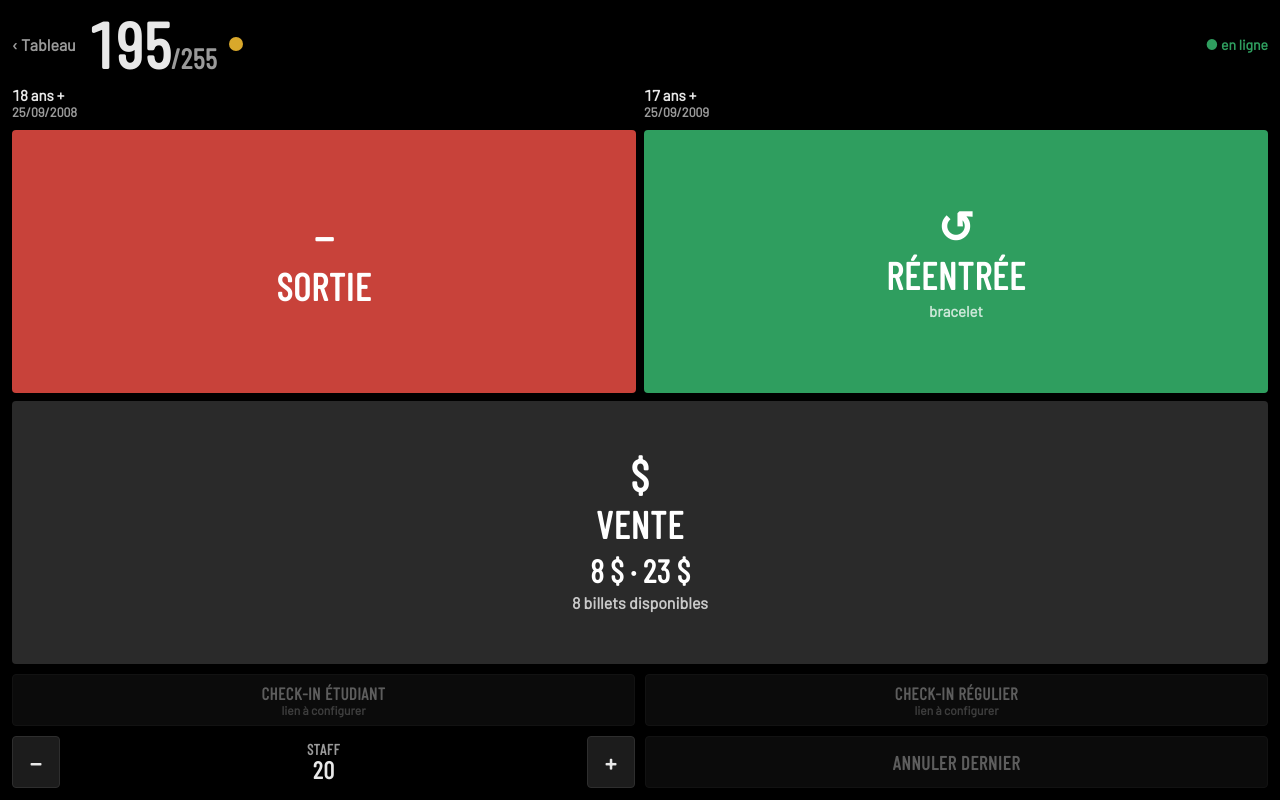
it: Écran Porte (scénario 23:00, 195 personnes, prix automatiques 8 $ / 23 $) › vente mixte (2 étudiants + 1 autre) puis annulation du groupe entier
This screenshot has width=1280, height=800.
What coordinates should you click on to do the following:
click the button "$ VENTE 8 $ · 23 $ 8 billets disponibles"
I would click on:
 (640, 532)
Its box is [12,401,1268,664].
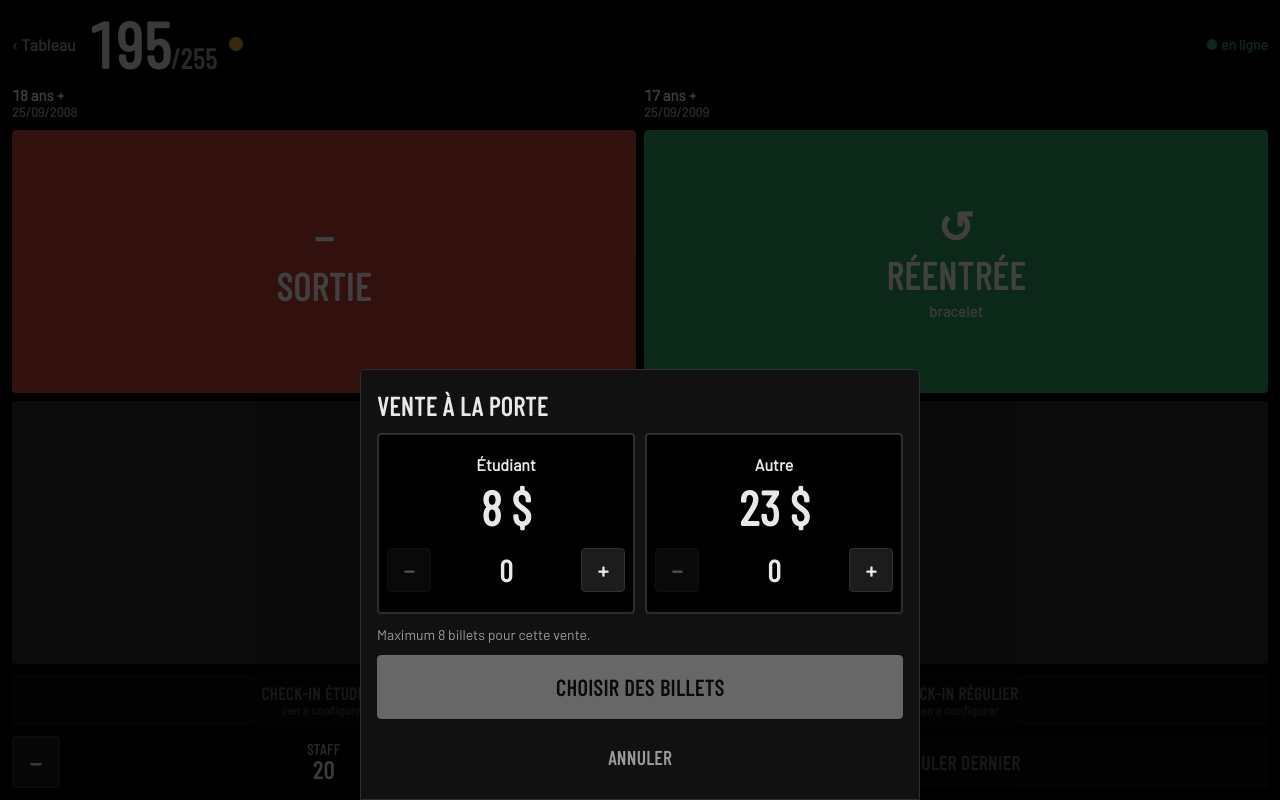
What coordinates should you click on to do the following:
click the button named "Ajouter un billet Étudiant"
I would click on:
 (603, 570)
Its box is [581,548,625,592].
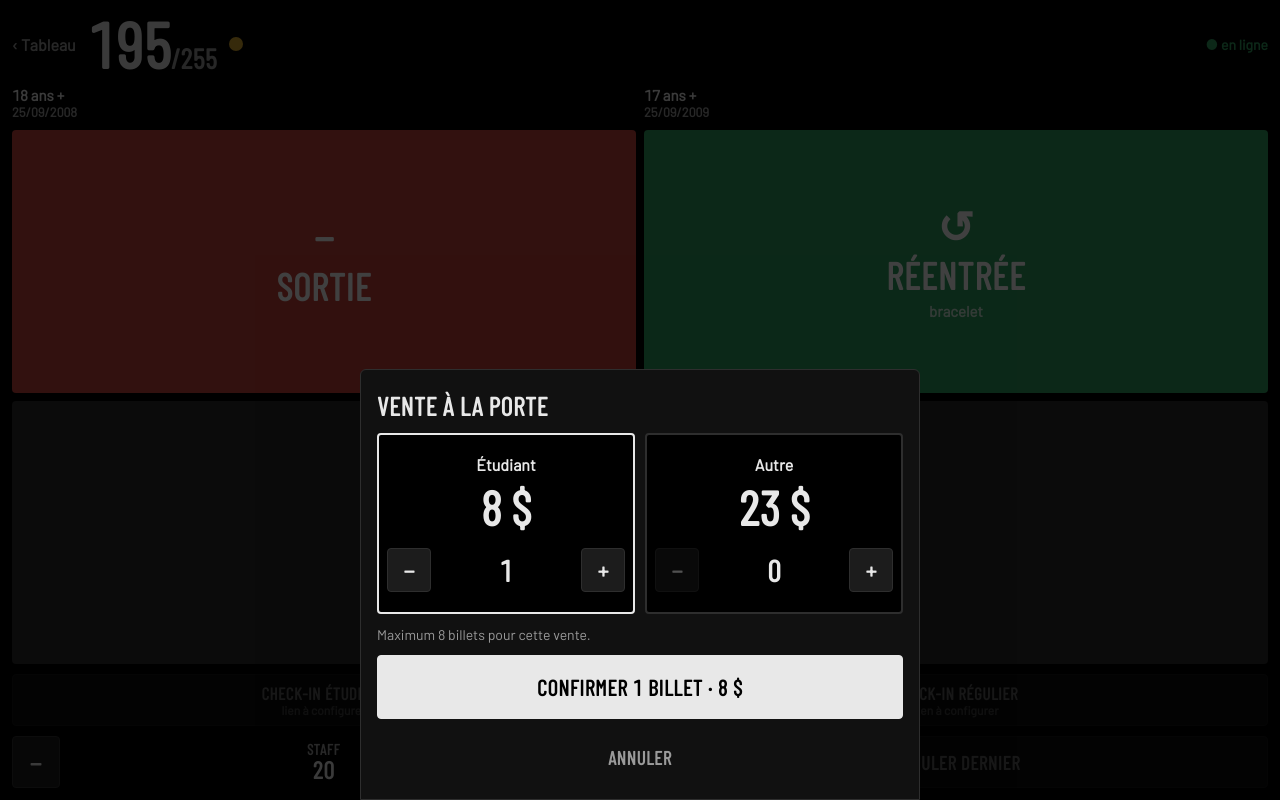
What coordinates should you click on to do the following:
click the button named "Ajouter un billet Étudiant"
I would click on:
 (603, 570)
Its box is [581,548,625,592].
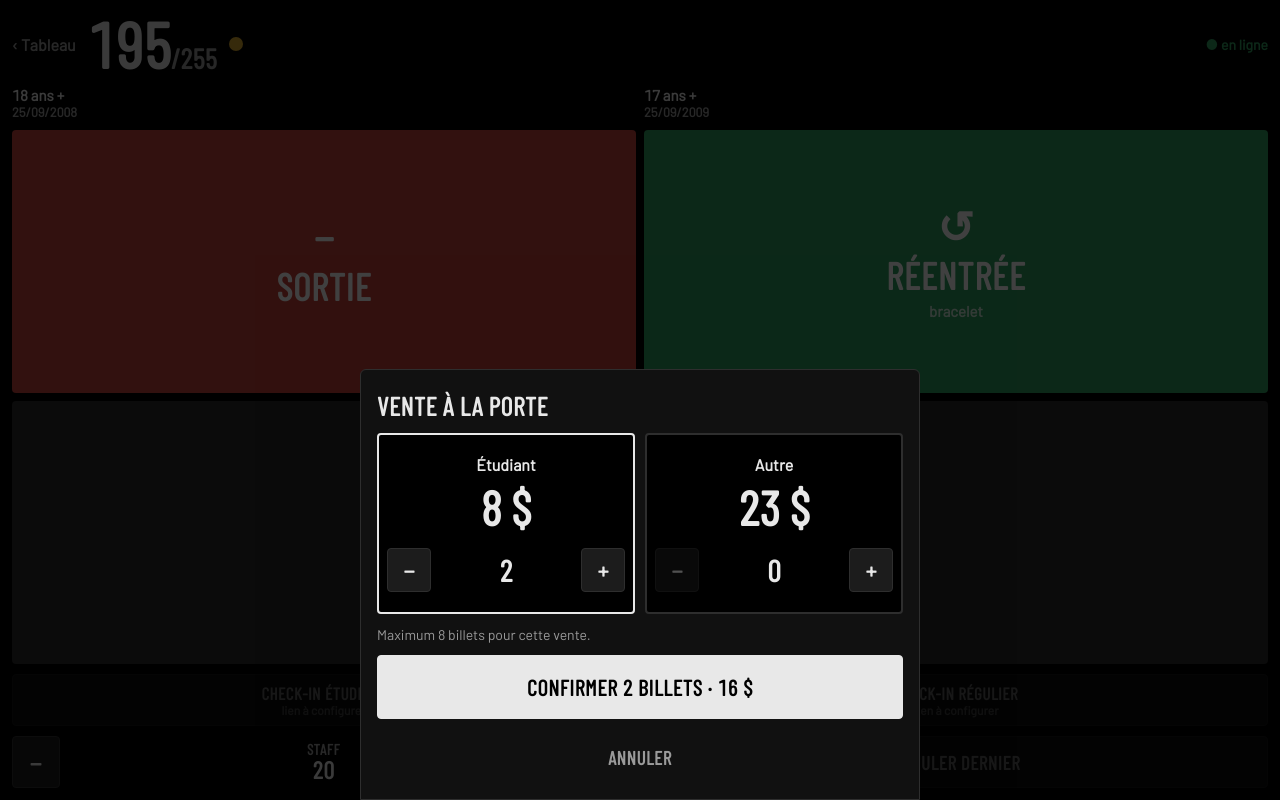
What coordinates should you click on to do the following:
click the button named "Ajouter un billet Autre"
I would click on:
 (871, 570)
Its box is [849,548,893,592].
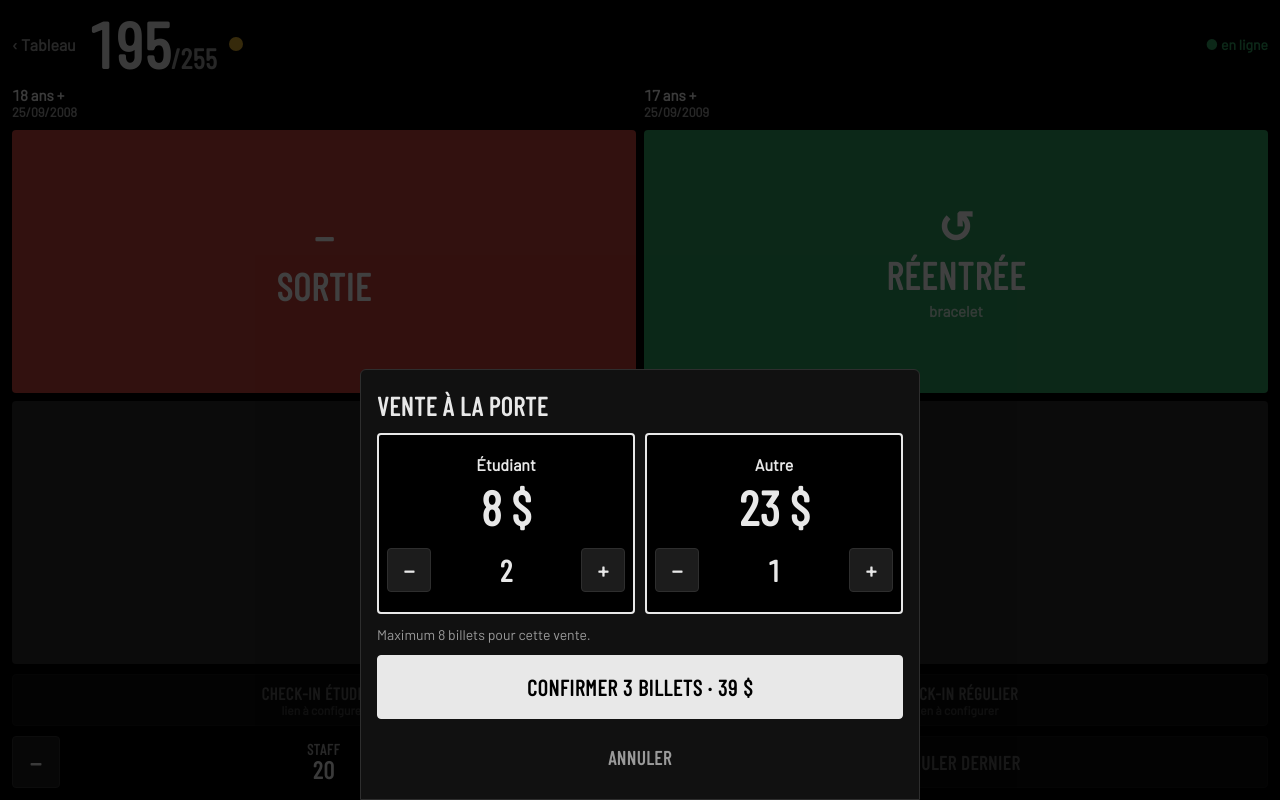
What coordinates should you click on to do the following:
click the button "Confirmer 3 billets · 39 $"
I would click on:
 (640, 687)
Its box is [377,655,903,719].
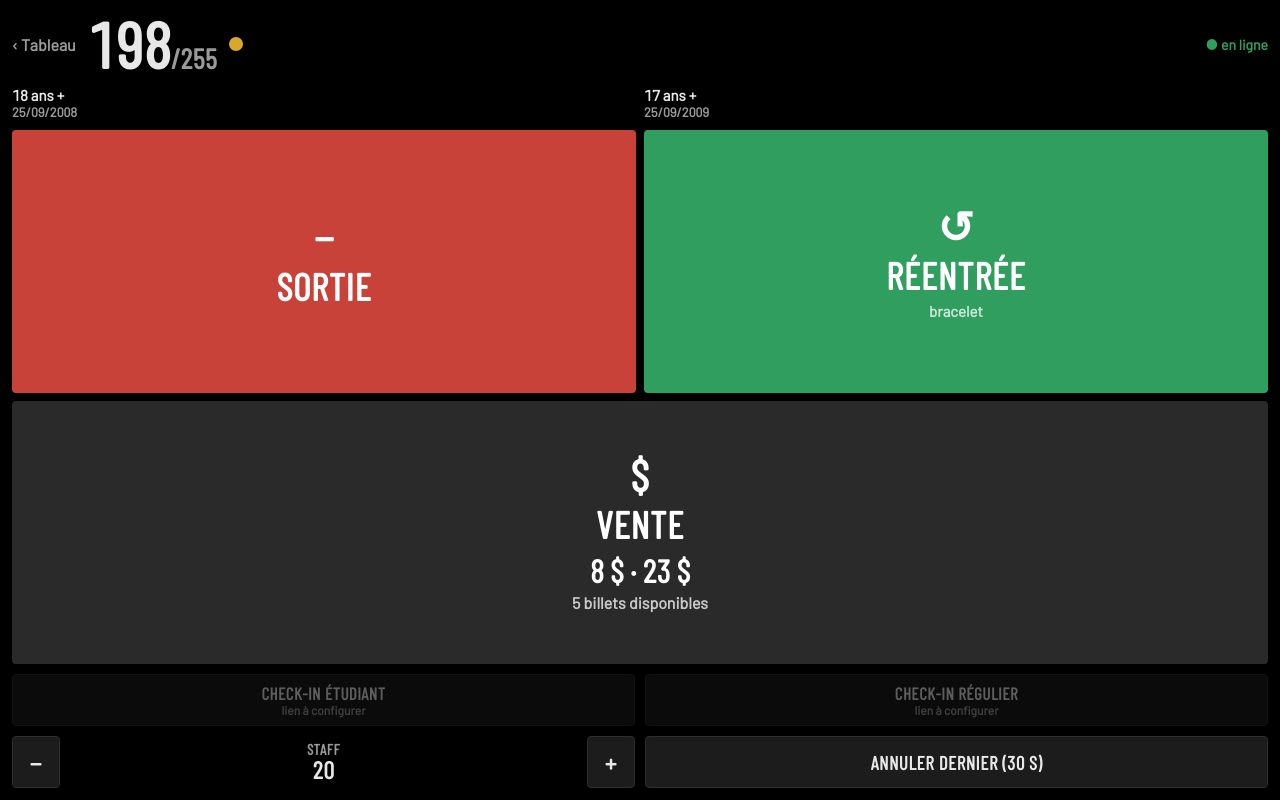
Expected: the text "198" is shown, [88,12,171,76]
What coordinates should you click on to do the following:
click the button "Annuler dernier (30 s)"
I would click on:
 (956, 762)
Its box is [645,736,1268,788].
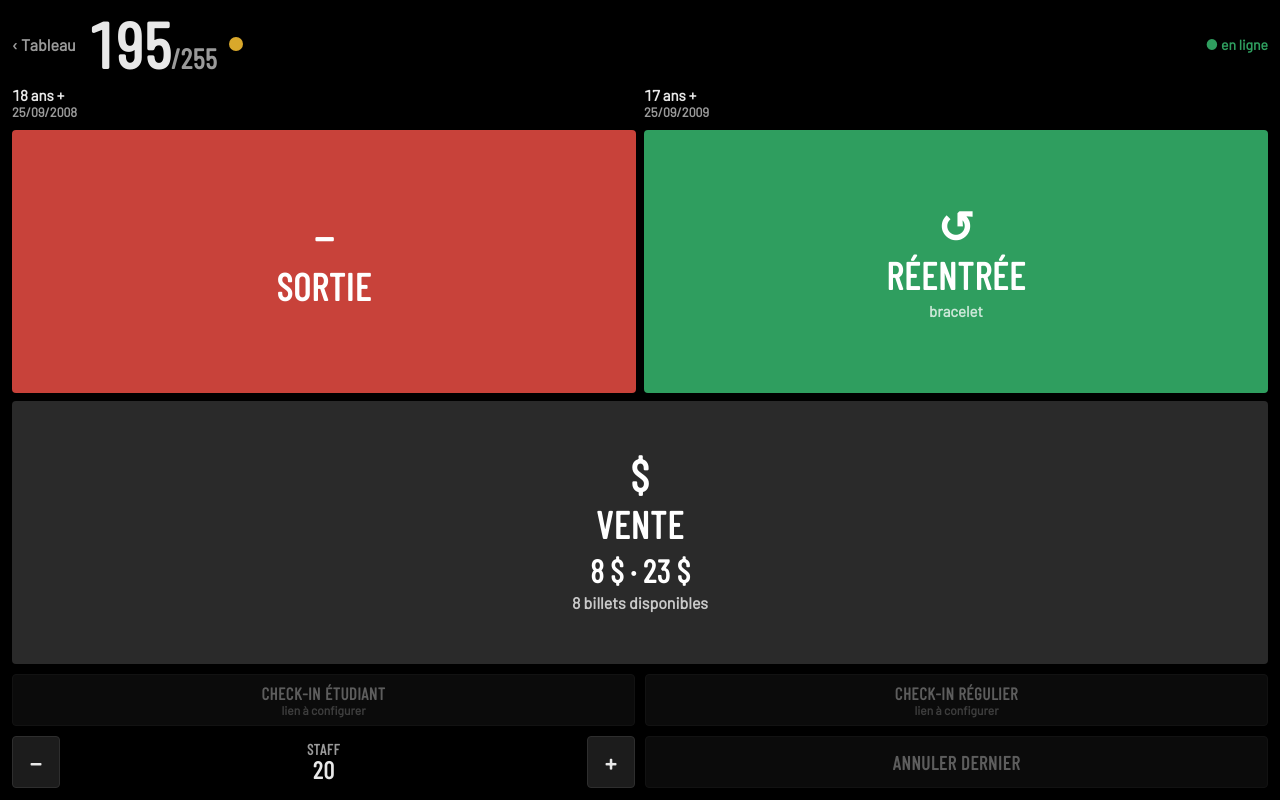
Expected: the text "195" is shown, [88,12,171,76]
